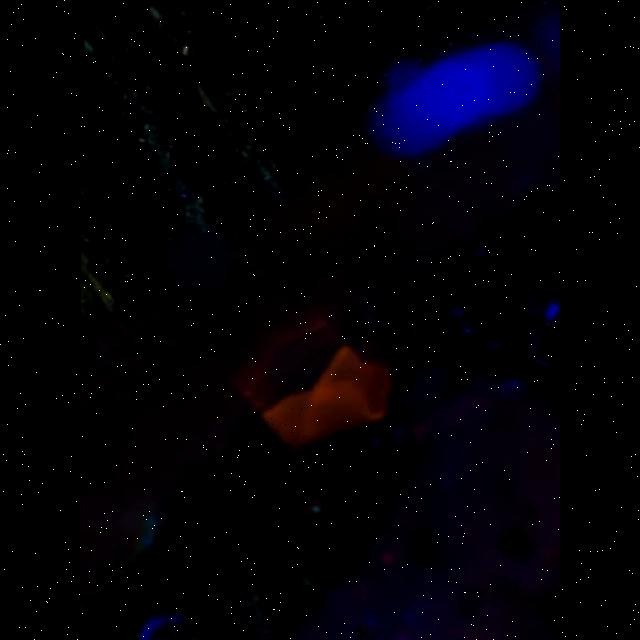Fragment: (261, 346, 391, 444)
